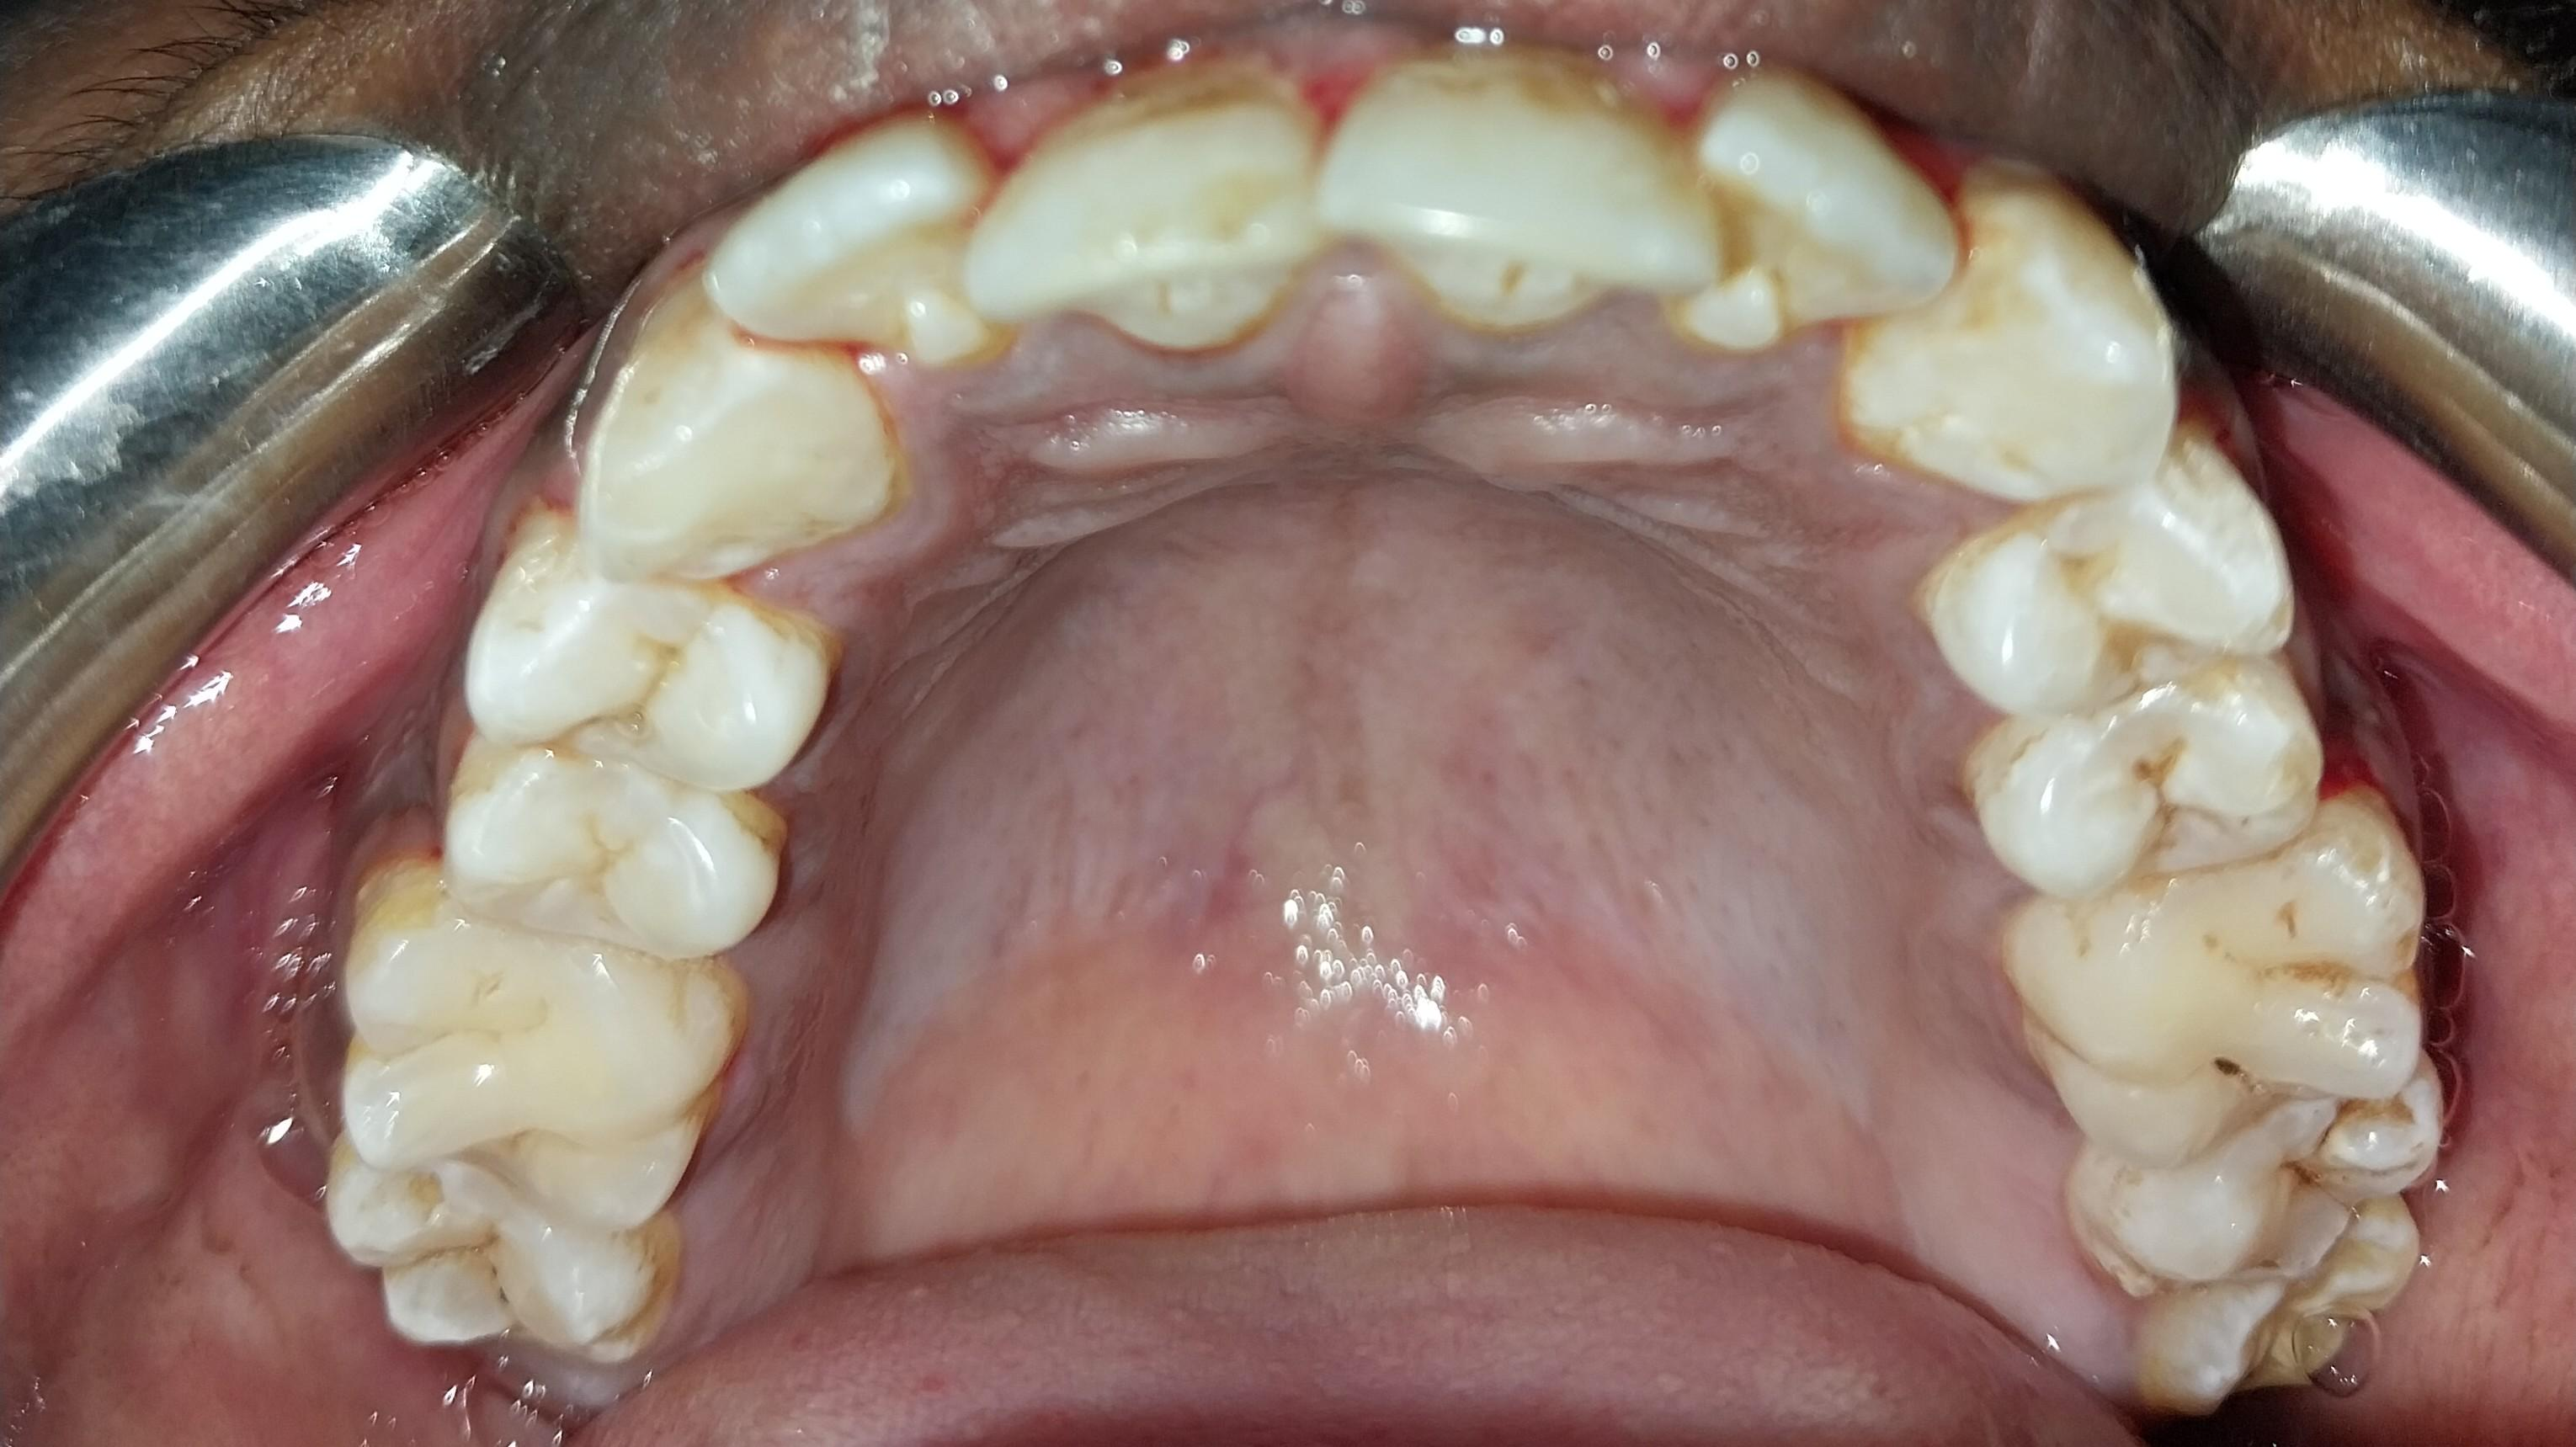D: (2062, 1094, 2467, 1292)
